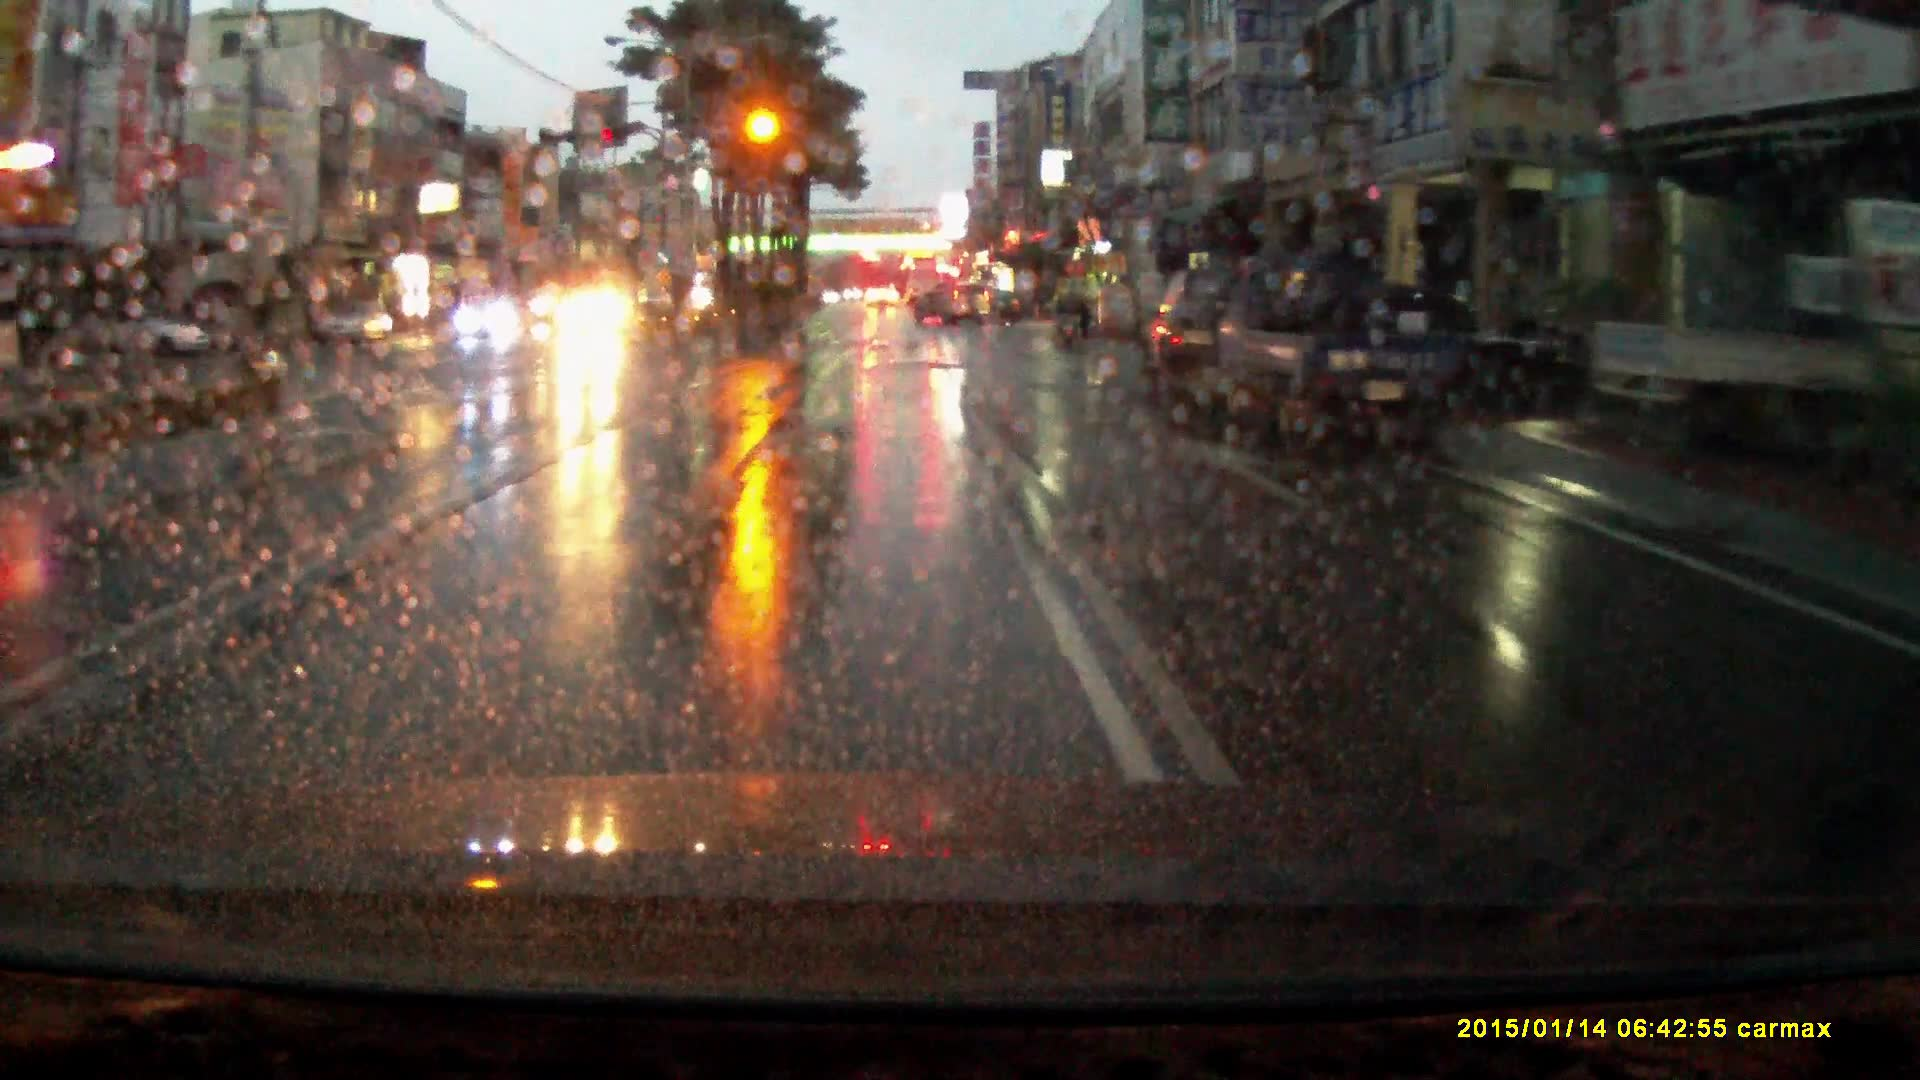vehicle: (1596, 258, 1920, 459), (1225, 244, 1458, 444), (1151, 265, 1236, 418), (90, 309, 212, 363), (554, 287, 633, 349), (322, 299, 396, 353), (916, 282, 994, 328), (458, 294, 524, 342), (202, 306, 262, 355), (907, 258, 944, 305), (989, 290, 1021, 322), (866, 287, 901, 311)
